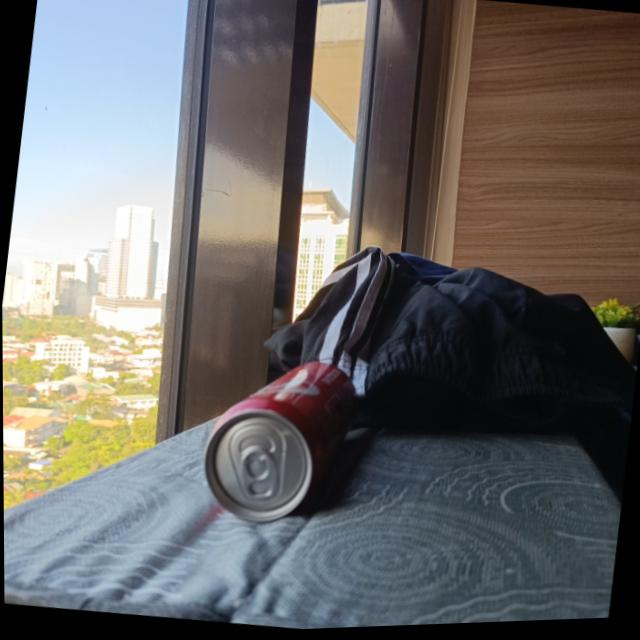coke: (196, 348, 356, 526)
